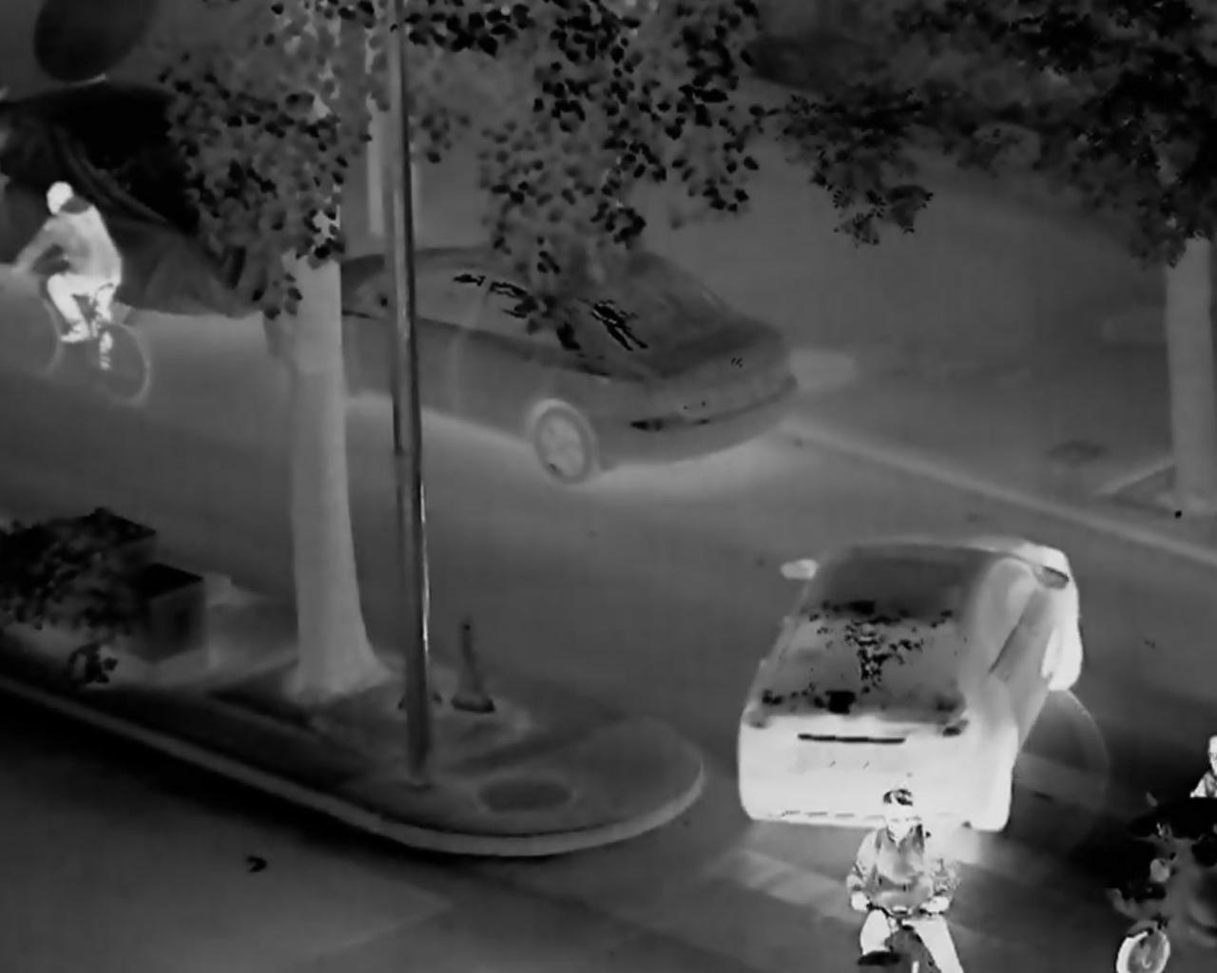person: (10, 179, 126, 373), (849, 791, 963, 973)
